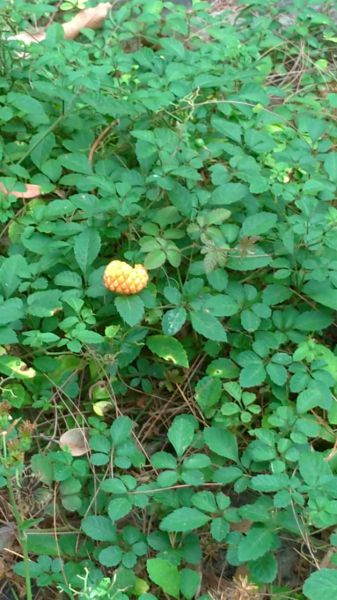eggs: (99, 254, 152, 296)
